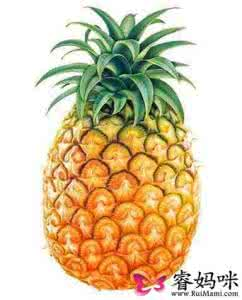pineapple: (48, 5, 195, 288)
